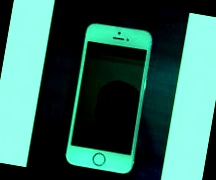iphone: (59, 28, 145, 180)
